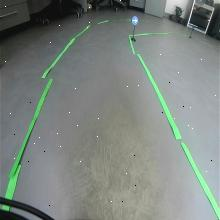right: (132, 17, 138, 24)
